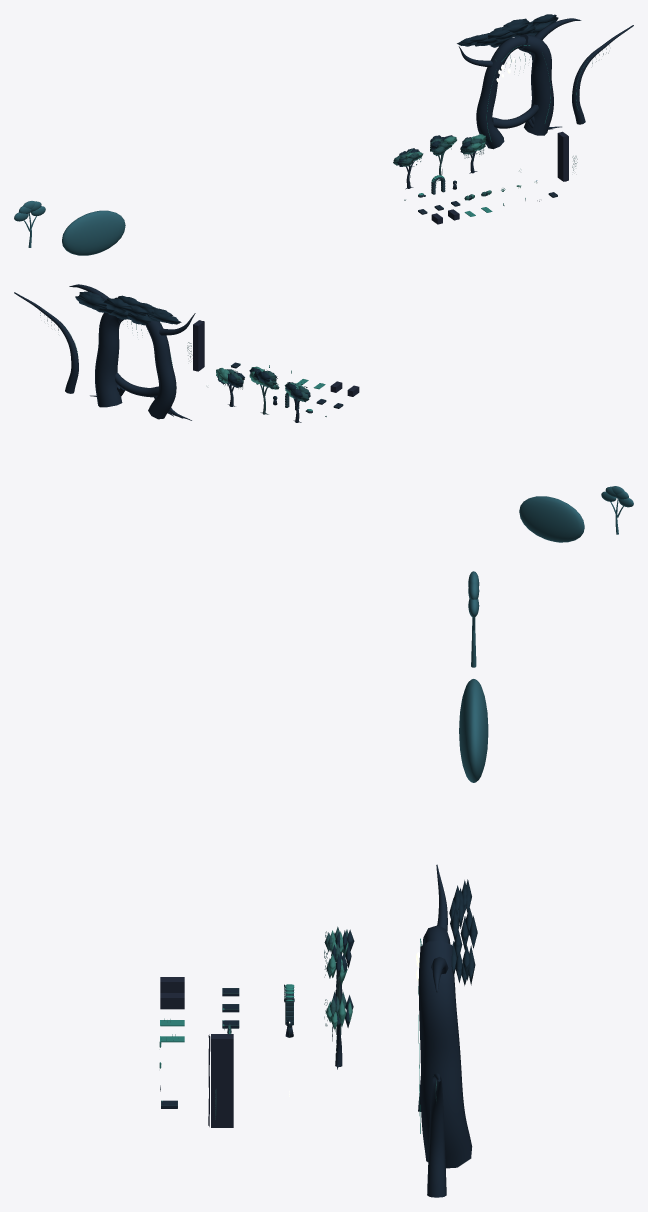
File: woodland-kit.glb
3 views of the same model, one above another, from view 1: azimuth 30°, elevation 25°; view 2: azimuth 150°, elevation 25°; view 3: azimuth 270°, elevation 25° (orthographic). The views are drawn at different scales.
Parts seen in each view (by area): view 1: ancient_tree_mesh.002, hill_mesh.004, root_arch_mesh.002, cliff_face_mesh.002, distant_tree_mesh.004, tree_willow_mesh.004, tree_birch_mesh.004, tree_oak_mesh.004; view 2: ancient_tree_mesh.002, hill_mesh.004, root_arch_mesh.002, cliff_face_mesh.002, distant_tree_mesh.004, tree_birch_mesh.004, tree_willow_mesh.004, tree_oak_mesh.004; view 3: ancient_tree_mesh.002, hill_mesh.004, cliff_face_mesh.002, root_arch_mesh.002, tree_willow_mesh.004.
Boxes of the visible parts, bbox=[...] form: ancient_tree_mesh.002: bbox=[457, 14, 581, 149]; hill_mesh.004: bbox=[62, 210, 125, 255]; root_arch_mesh.002: bbox=[572, 25, 633, 124]; cliff_face_mesh.002: bbox=[557, 131, 568, 181]; distant_tree_mesh.004: bbox=[14, 201, 45, 247]; tree_willow_mesh.004: bbox=[460, 134, 486, 173]; tree_birch_mesh.004: bbox=[430, 135, 456, 181]; tree_oak_mesh.004: bbox=[393, 148, 423, 189]; ancient_tree_mesh.002: bbox=[69, 284, 195, 420]; hill_mesh.004: bbox=[519, 496, 584, 542]; root_arch_mesh.002: bbox=[14, 292, 78, 393]; cliff_face_mesh.002: bbox=[193, 320, 204, 371]; distant_tree_mesh.004: bbox=[601, 486, 633, 534]; tree_birch_mesh.004: bbox=[249, 366, 277, 414]; tree_willow_mesh.004: bbox=[216, 368, 244, 406]; tree_oak_mesh.004: bbox=[284, 382, 310, 422]; ancient_tree_mesh.002: bbox=[416, 864, 477, 1168]; hill_mesh.004: bbox=[459, 679, 488, 782]; cliff_face_mesh.002: bbox=[208, 1034, 233, 1127]; root_arch_mesh.002: bbox=[427, 1073, 446, 1197]; tree_willow_mesh.004: bbox=[324, 991, 353, 1069].
Size of the model in its own units: 115 by 23.85 by 26.81.
